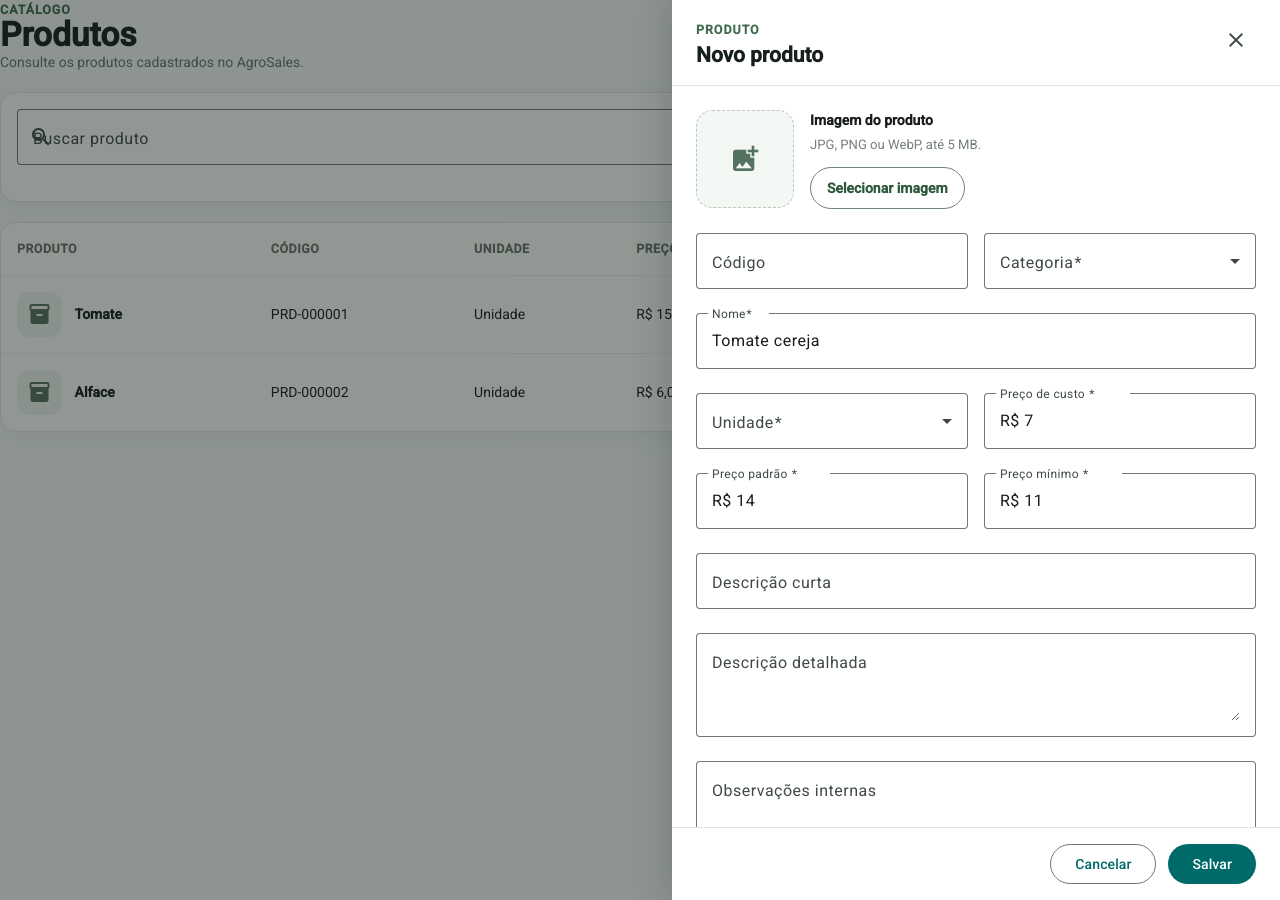
Test case: ProductsComponent › keeps the panel open when saving fails
This screenshot has width=1280, height=900.
Click the button with test id "save-product-button".
click(1212, 864)  # box [1168,844,1256,884]
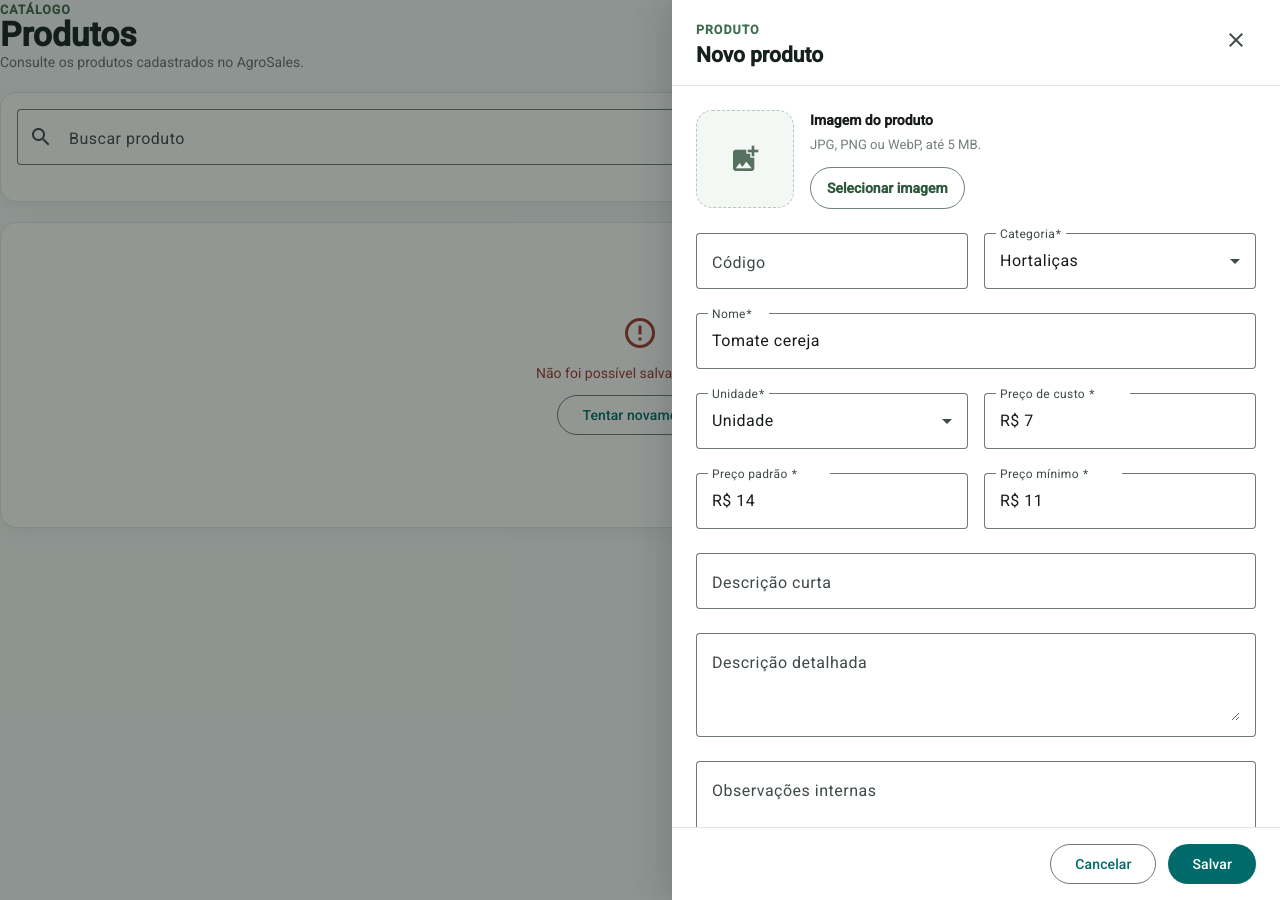
Check: the text "Não foi possível salvar o produto." is shown, box [536,363,744,383]
